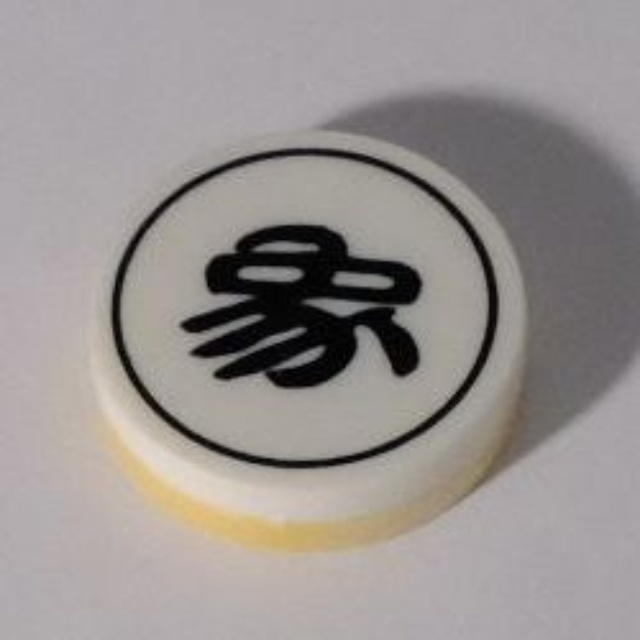black_bo: (67, 124, 530, 547)
